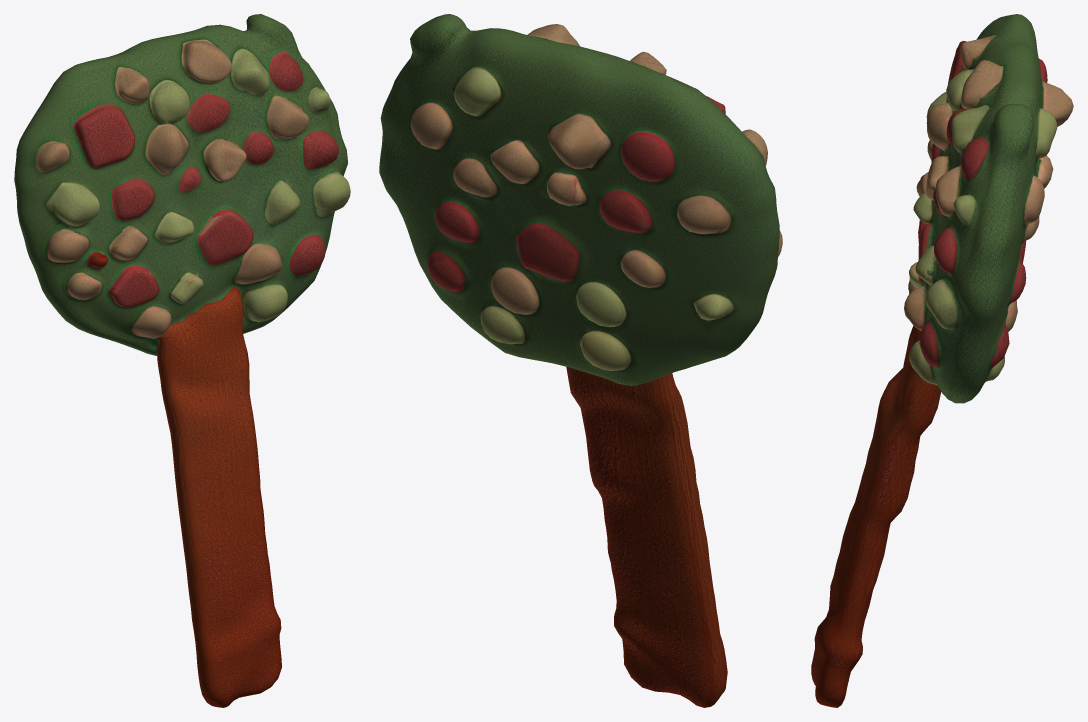
The model's file is stylized-tree-a.glb.
3 renders of one model, left to right at view 1: azimuth 30°, elevation 25°; view 2: azimuth 150°, elevation 25°; view 3: azimuth 270°, elevation 25°, orthographic. The views are drawn at different scales.
Visible parts, largest first — view 1: tripo_node_d2a9cd3a-0eb7-437a-ab82-2f6deeef8a2c; view 2: tripo_node_d2a9cd3a-0eb7-437a-ab82-2f6deeef8a2c; view 3: tripo_node_d2a9cd3a-0eb7-437a-ab82-2f6deeef8a2c.
Boxes of the visible parts, bbox=[...] form: tripo_node_d2a9cd3a-0eb7-437a-ab82-2f6deeef8a2c: bbox=[14, 14, 350, 707]; tripo_node_d2a9cd3a-0eb7-437a-ab82-2f6deeef8a2c: bbox=[379, 14, 782, 707]; tripo_node_d2a9cd3a-0eb7-437a-ab82-2f6deeef8a2c: bbox=[811, 14, 1073, 707].
Bounding box in the file's own units: 0.5564 × 0.978 × 0.3555.
Materials: 1 (1 with a texture image).
